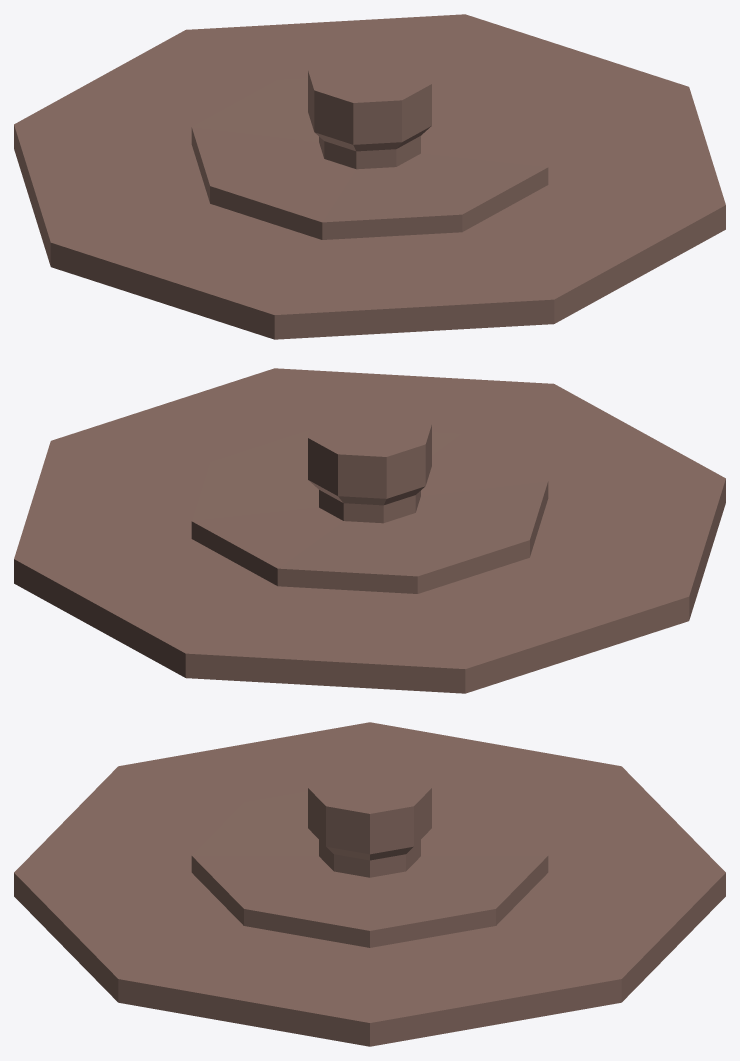
File: ClayPot_Lid.fbx
The picture shows the model from 3 angles, top to bottom: view 1: azimuth 30°, elevation 25°; view 2: azimuth 150°, elevation 25°; view 3: azimuth 270°, elevation 25°; orthographic projection. The views are drawn at different scales.
Parts seen in each view (by area): view 1: Lid; view 2: Lid; view 3: Lid.
Boxes of the visible parts, box(x1,y1,x2,y2) form: Lid: box(14, 14, 725, 339); Lid: box(14, 368, 725, 693); Lid: box(14, 722, 725, 1046).
Size of the model in its own units: 95.91 by 16.14 by 95.91.
